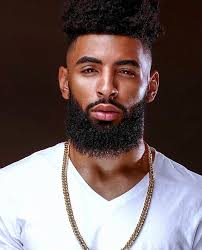b.y: (68, 98, 144, 151)
